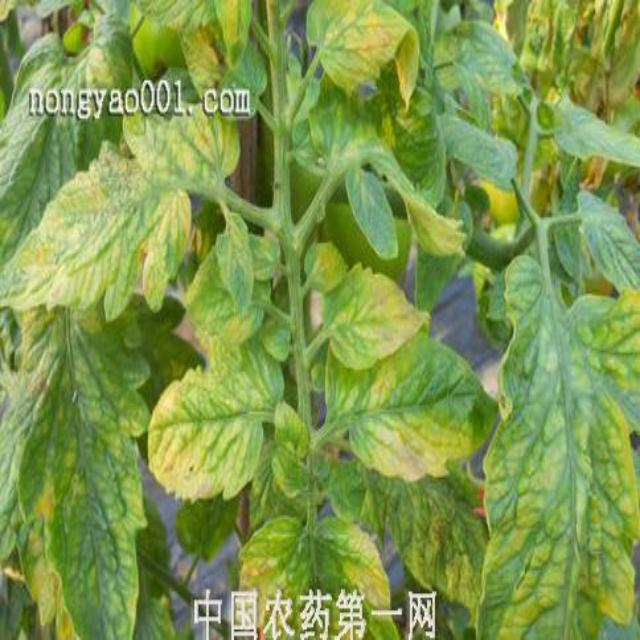Leaf_Mold: (472, 268, 640, 640), (2, 145, 190, 318), (323, 349, 498, 481), (146, 336, 282, 501), (235, 517, 400, 640), (307, 254, 432, 370), (390, 473, 486, 612), (303, 1, 415, 110), (120, 93, 243, 190), (131, 1, 252, 93), (189, 226, 278, 344), (15, 479, 77, 640), (72, 40, 112, 115)
